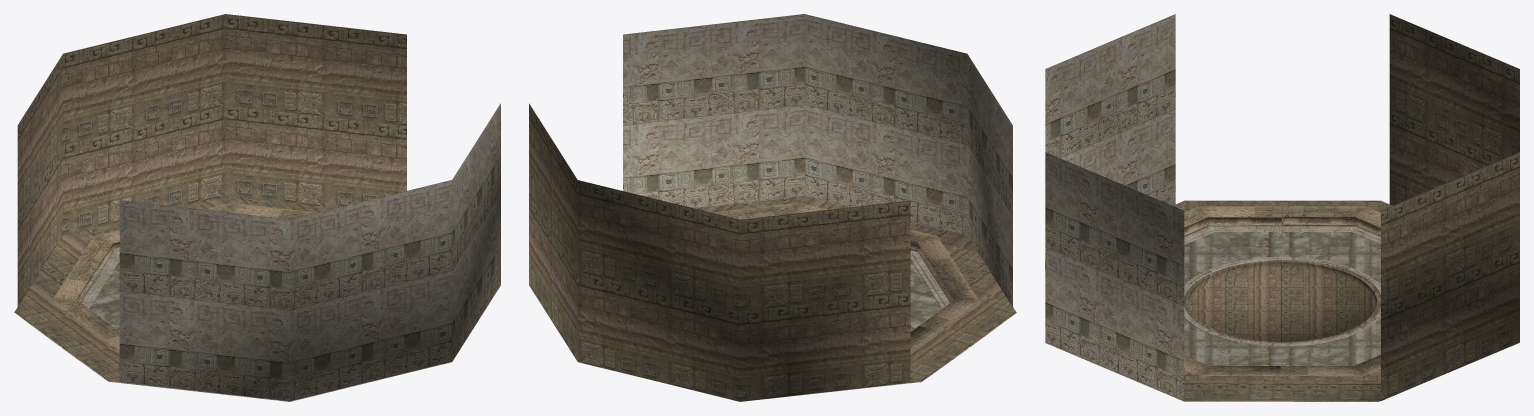
File: TowerIn.fbx
3 views of the same model, side by side, from view 1: azimuth 30°, elevation 25°; view 2: azimuth 150°, elevation 25°; view 3: azimuth 270°, elevation 25° (orthographic). The views are drawn at different scales.
Visible parts, largest first — view 1: LV_AncientTower_Dungeon_AstroFloor_SM_KBE; view 2: LV_AncientTower_Dungeon_AstroFloor_SM_KBE; view 3: LV_AncientTower_Dungeon_AstroFloor_SM_KBE.
Part boxes in pixels (left/top/right/bottom): LV_AncientTower_Dungeon_AstroFloor_SM_KBE: left=14, top=14, right=500, bottom=401; LV_AncientTower_Dungeon_AstroFloor_SM_KBE: left=529, top=14, right=1016, bottom=401; LV_AncientTower_Dungeon_AstroFloor_SM_KBE: left=1045, top=14, right=1519, bottom=401.
Size of the model in its own units: 9.17 by 4.19 by 9.15.
Materials: 7 (7 with a texture image).
